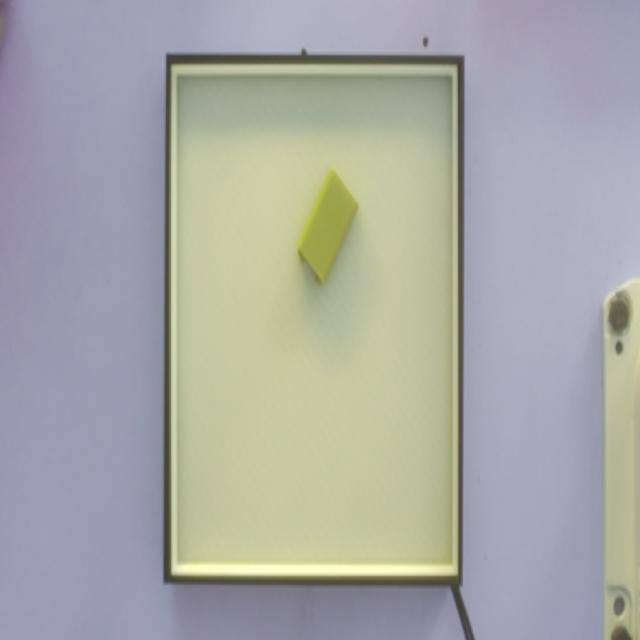bateria: (295, 164, 360, 282)
mesa: (164, 55, 463, 586)
